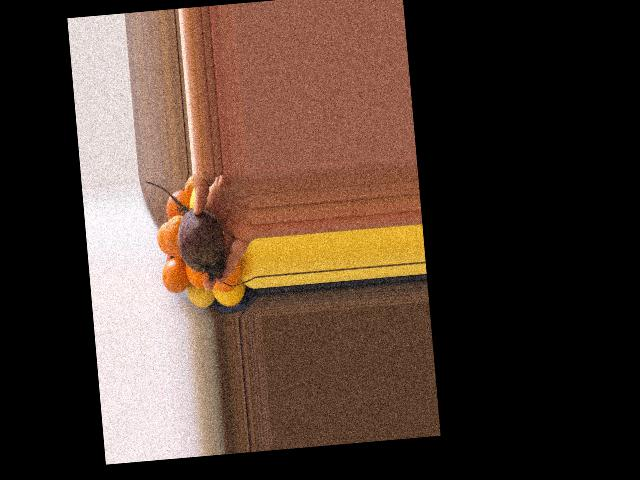beet: (145, 175, 227, 284)
